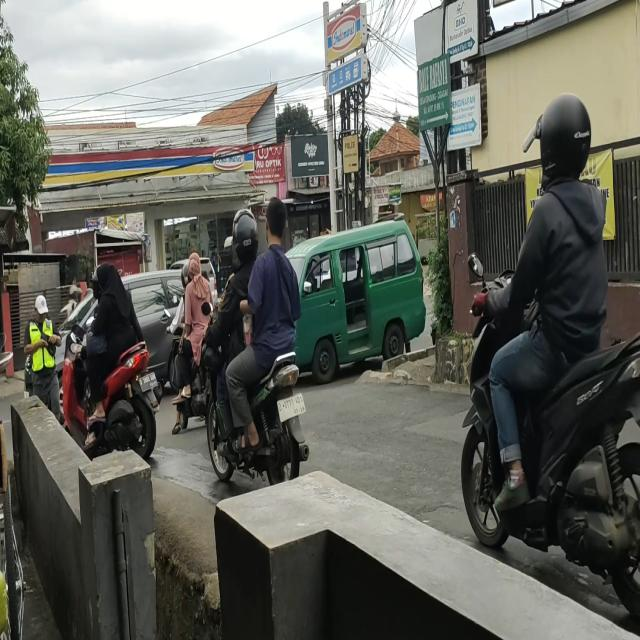helmet: (538, 94, 591, 178), (230, 209, 260, 261), (90, 266, 99, 297), (178, 260, 188, 287)
no-helmet: (267, 196, 285, 242), (98, 266, 117, 292), (188, 254, 200, 277)
